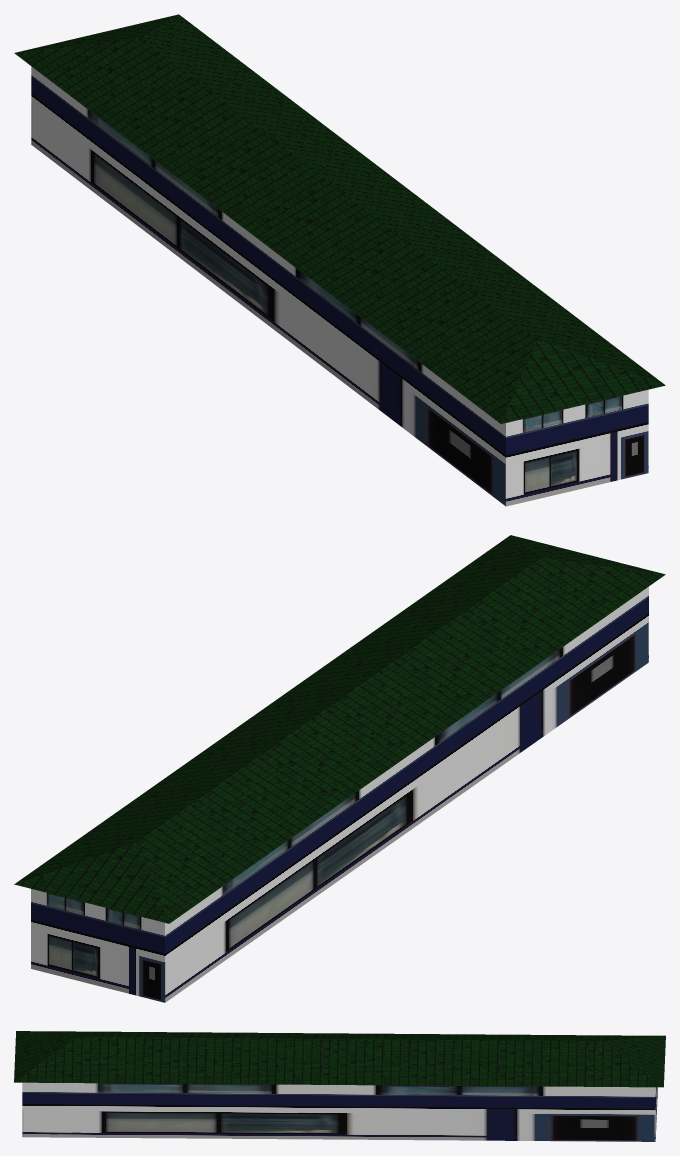
The picture shows the model from 3 angles, top to bottom: view 1: azimuth 30°, elevation 25°; view 2: azimuth 150°, elevation 25°; view 3: azimuth 270°, elevation 25°; orthographic projection. The views are drawn at different scales.
Parts seen in each view (by area): view 1: CityEngineMaterial_13_m, CityEngineMaterial_2_m; view 2: CityEngineMaterial_13_m, CityEngineMaterial_2_m; view 3: CityEngineMaterial_2_m, CityEngineMaterial_13_m.
Part boxes in pixels (x1,y1,x2,y2): CityEngineMaterial_13_m: (14,14,665,423); CityEngineMaterial_2_m: (31,66,648,506); CityEngineMaterial_13_m: (14,535,665,923); CityEngineMaterial_2_m: (31,586,648,1002); CityEngineMaterial_2_m: (22,1082,657,1141); CityEngineMaterial_13_m: (14,1031,665,1087).
Bounding box in the file's own units: 15.09 × 9.76 × 73.76.
